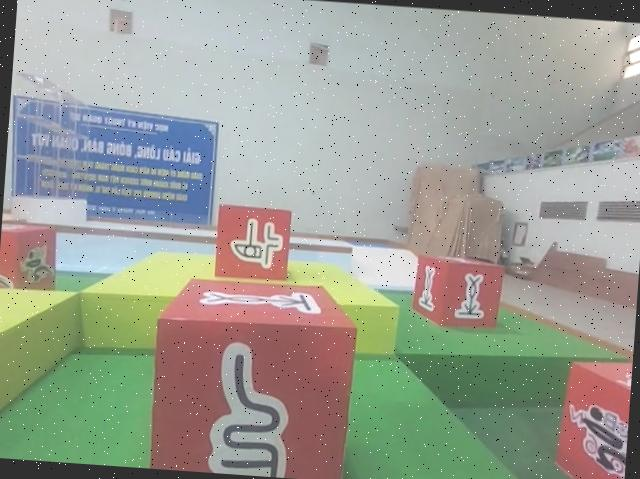R1: (552, 352, 632, 479), (0, 215, 63, 294)
R2 Fake: (144, 269, 362, 479)
R2 Real: (409, 251, 510, 330), (213, 204, 291, 282)
